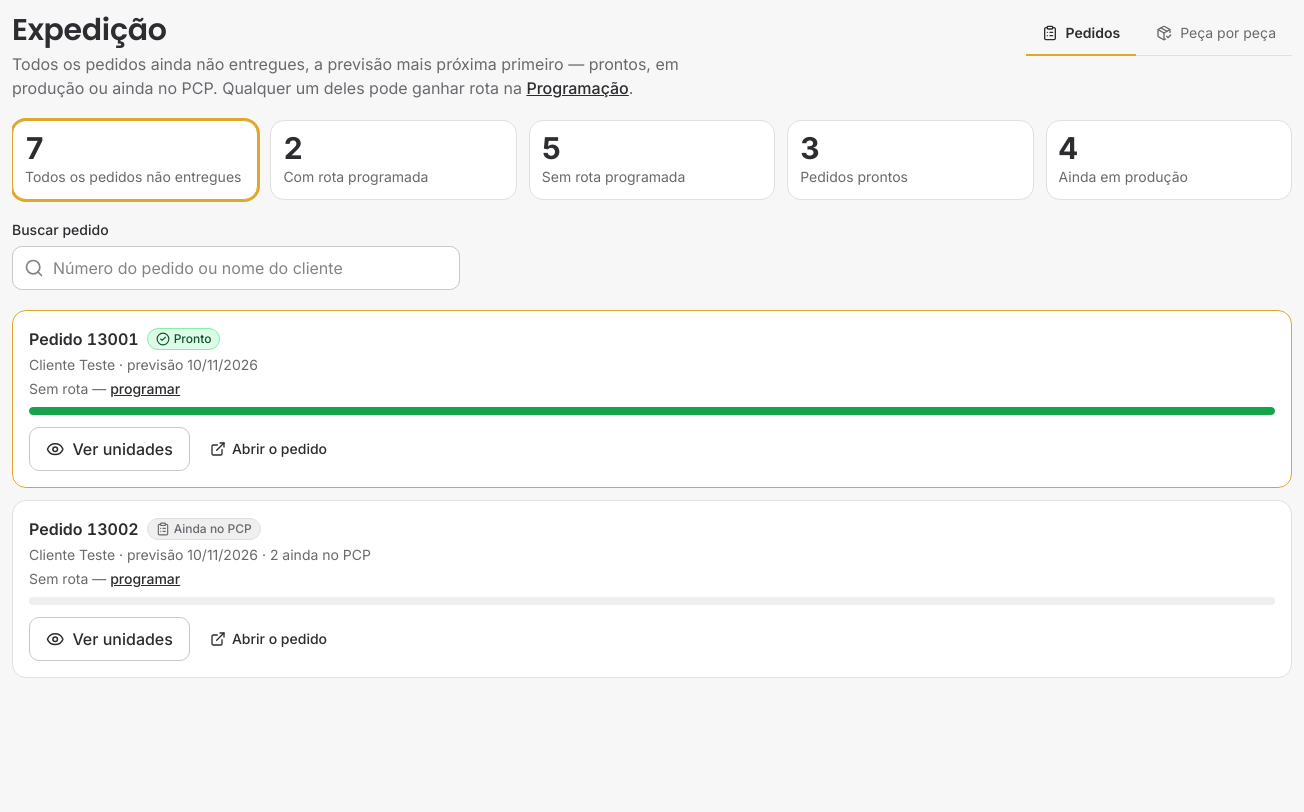
it: Expedição — os filtros em quadradinhos › o clique no quadradinho pede ao servidor a lista daquele filtro e o contorna
The width and height of the screenshot is (1304, 812).
Click the button "2 Com rota programada".
click(394, 160)  # box [270,120,517,200]
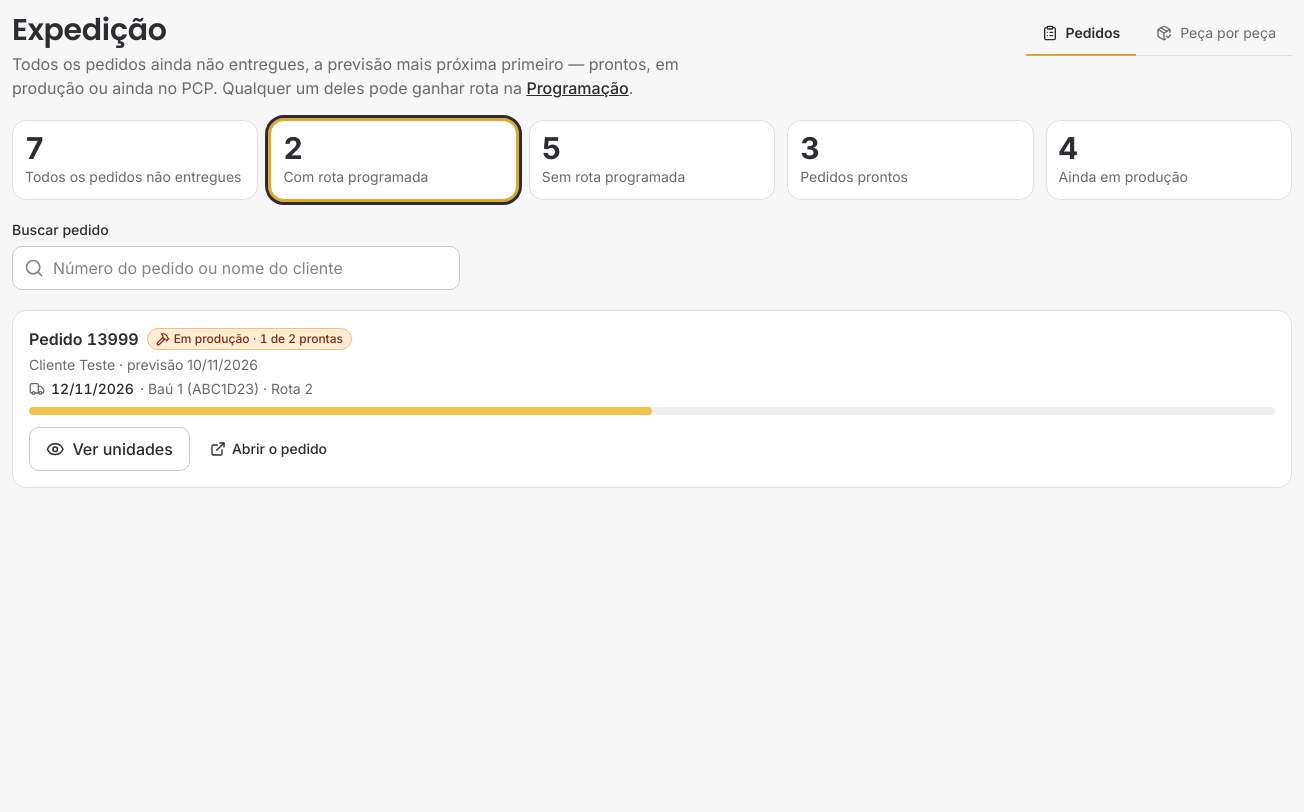
Result: the text "Em produção · 1 de 2 prontas" is shown at [147,328,352,350]
Result: the text "· Baú 1 (ABC1D23) · Rota 2" is shown at [140,379,313,399]
